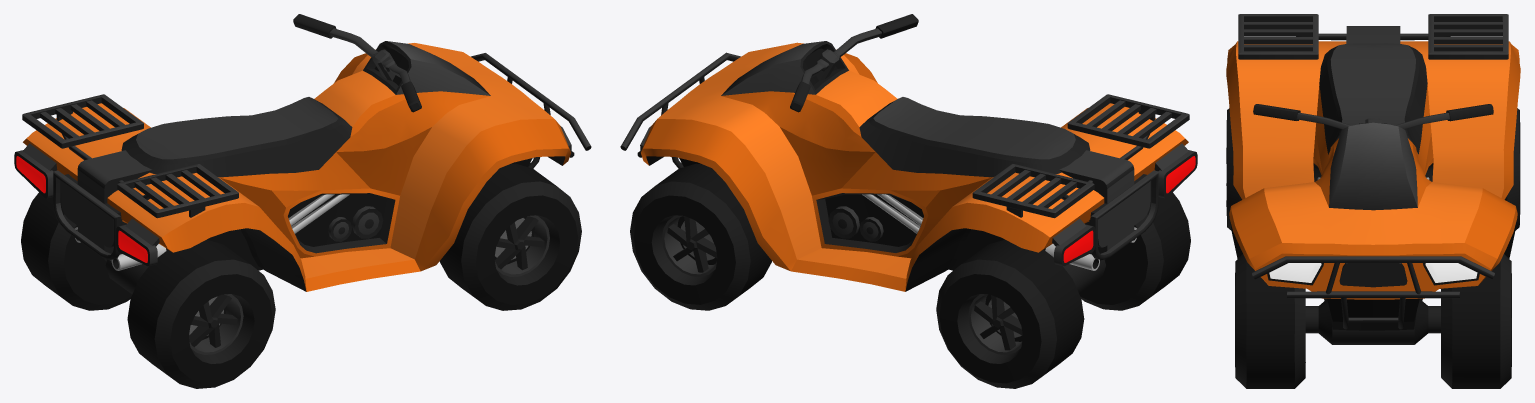
The model's file is Bike_004.glb.
3 renders of one model, left to right at view 1: azimuth 30°, elevation 25°; view 2: azimuth 150°, elevation 25°; view 3: azimuth 270°, elevation 25°, orthographic.
Parts seen in each view (by area): view 1: Bike_004, wheel_3_Bike_004_Wheel_2R, wheel_1_Bike_004_Wheel_1R, wheel_2_Bike_004_Wheel_2L; view 2: Bike_004, wheel_2_Bike_004_Wheel_2L, wheel_0_Bike_004_Wheel_1L, wheel_3_Bike_004_Wheel_2R; view 3: Bike_004, wheel_0_Bike_004_Wheel_1L, wheel_1_Bike_004_Wheel_1R, wheel_2_Bike_004_Wheel_2L, wheel_3_Bike_004_Wheel_2R.
Part boxes in pixels (<box>): Bike_004: <box>14,14,591,294</box>; wheel_3_Bike_004_Wheel_2R: <box>111,239,275,388</box>; wheel_1_Bike_004_Wheel_1R: <box>439,163,581,310</box>; wheel_2_Bike_004_Wheel_2L: <box>21,180,131,310</box>; Bike_004: <box>620,14,1197,294</box>; wheel_2_Bike_004_Wheel_2L: <box>936,239,1099,388</box>; wheel_0_Bike_004_Wheel_1L: <box>630,163,771,310</box>; wheel_3_Bike_004_Wheel_2R: <box>1079,181,1190,310</box>; Bike_004: <box>1226,14,1520,344</box>; wheel_0_Bike_004_Wheel_1L: <box>1441,254,1511,388</box>; wheel_1_Bike_004_Wheel_1R: <box>1235,254,1305,388</box>; wheel_2_Bike_004_Wheel_2L: <box>1504,108,1520,230</box>; wheel_3_Bike_004_Wheel_2R: <box>1226,108,1241,230</box>.
Size of the model in its own units: 2.58 by 1.27 by 1.46.
2 materials, 2 textured.
